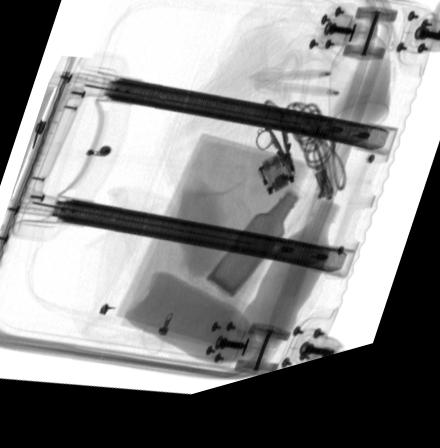Scissors: (252, 125, 300, 195)
